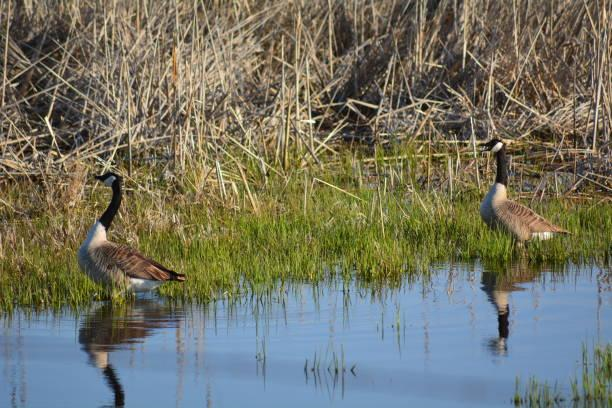Canadian-Goose: (83, 173, 179, 302), (474, 139, 564, 242)
